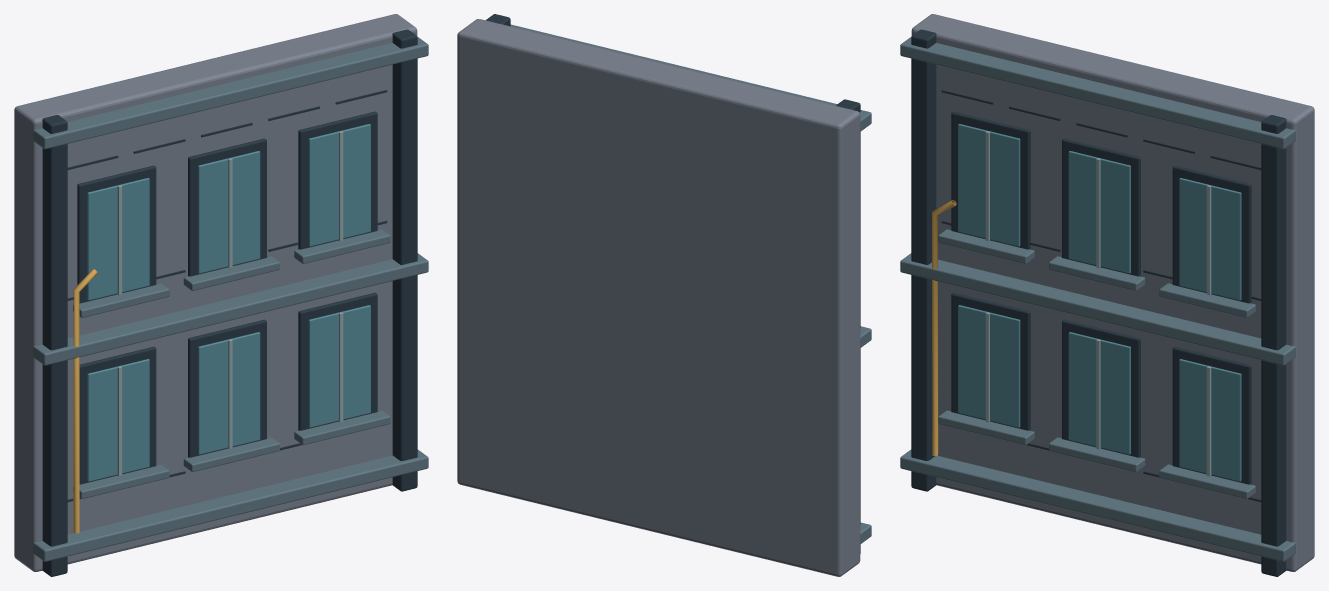
File: SM_Facade.fbx
3 views of the same model, side by side, from view 1: azimuth 30°, elevation 25°; view 2: azimuth 150°, elevation 25°; view 3: azimuth 330°, elevation 25° (orthographic).
Parts seen in each view (by area): view 1: SM_Facade; view 2: SM_Facade; view 3: SM_Facade.
Part boxes in pixels (x1,y1,x2,y2): SM_Facade: [14, 14, 428, 576]; SM_Facade: [457, 14, 871, 576]; SM_Facade: [900, 14, 1314, 576].
Bounding box in the file's own units: 400 × 57 × 450.
